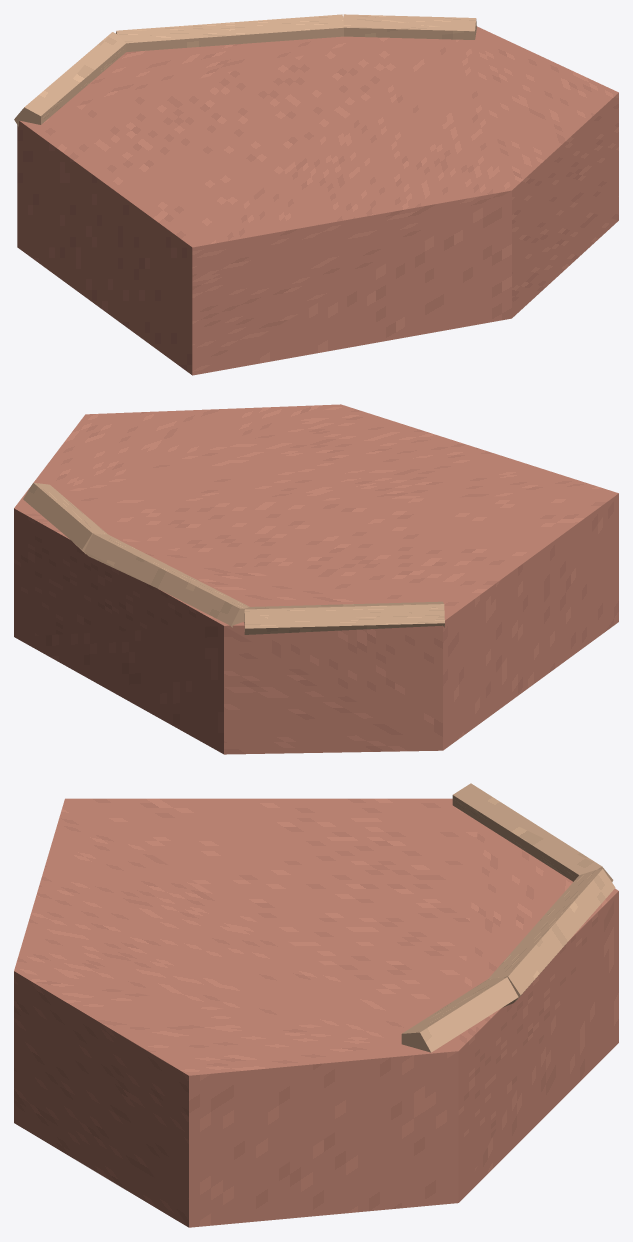
Rendered from poultry_scrap.glb.
3 views of the same model, one above another, from view 1: azimuth 30°, elevation 25°; view 2: azimuth 150°, elevation 25°; view 3: azimuth 270°, elevation 25° (orthographic). The views are drawn at different scales.
Parts seen in each view (by area): view 1: block_cut of meat, block_pale outer edge 1, block_pale outer edge 0, block_pale outer edge 2; view 2: block_cut of meat, block_pale outer edge 0, block_pale outer edge 1, block_pale outer edge 2; view 3: block_cut of meat, block_pale outer edge 1, block_pale outer edge 0, block_pale outer edge 2.
Boxes of the visible parts, bbox=[...] form: block_cut of meat: bbox=[17, 26, 618, 375]; block_pale outer edge 1: bbox=[116, 14, 343, 51]; block_pale outer edge 0: bbox=[14, 32, 126, 126]; block_pale outer edge 2: bbox=[343, 14, 476, 39]; block_cut of meat: bbox=[14, 404, 618, 754]; block_pale outer edge 0: bbox=[244, 601, 444, 634]; block_pale outer edge 1: bbox=[84, 533, 249, 627]; block_pale outer edge 2: bbox=[23, 482, 107, 554]; block_cut of meat: bbox=[14, 798, 618, 1227]; block_pale outer edge 1: bbox=[488, 868, 615, 1001]; block_pale outer edge 0: bbox=[452, 783, 613, 882]; block_pale outer edge 2: bbox=[401, 977, 518, 1052].
Size of the model in its own units: 0.0491 by 0.0139 by 0.0451.
Materials: 1 (1 with a texture image).
